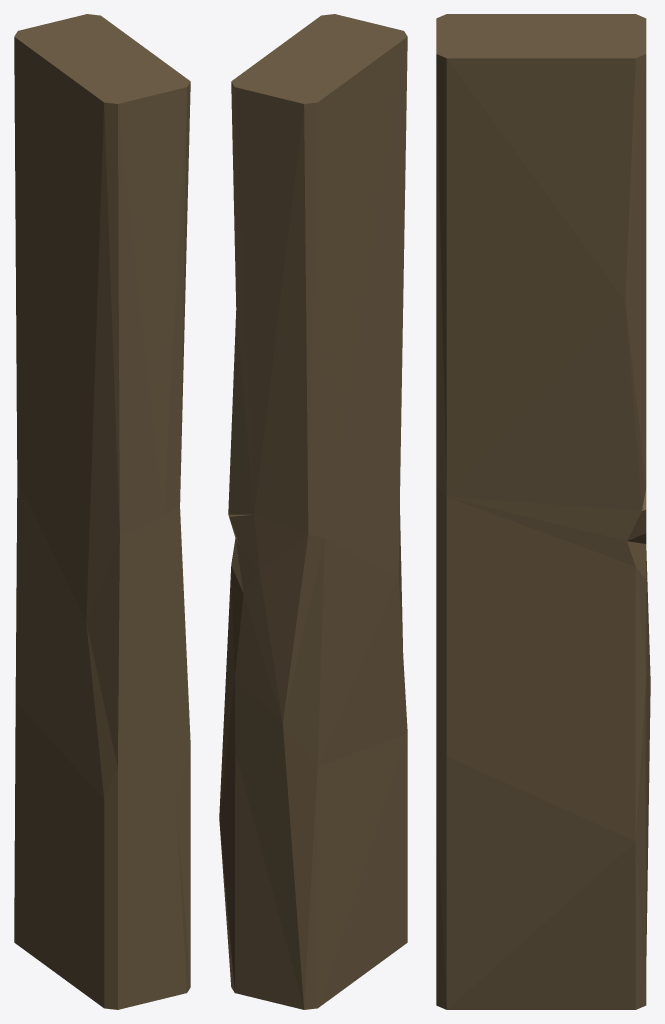
Rendered from greek_stairs_wood_support.fbx.
The picture shows the model from 3 angles, left to right: view 1: azimuth 30°, elevation 25°; view 2: azimuth 150°, elevation 25°; view 3: azimuth 270°, elevation 25°; orthographic projection. The views are drawn at different scales.
Parts seen in each view (by area): view 1: Cube.074; view 2: Cube.074; view 3: Cube.074.
Boxes of the visible parts, left/top/right/bottom form: Cube.074: left=14, top=14, right=190, bottom=1009; Cube.074: left=219, top=14, right=407, bottom=1009; Cube.074: left=436, top=14, right=650, bottom=1009.
Bounding box in the file's own units: 11.89 × 100 × 20.42.
